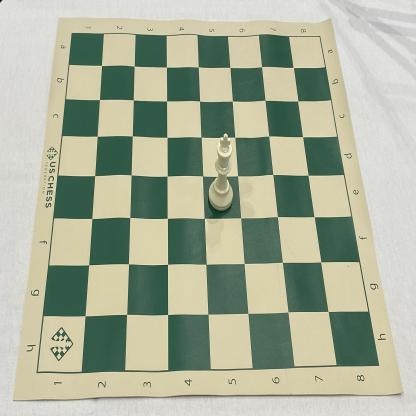white-king: (208, 133, 234, 212)
